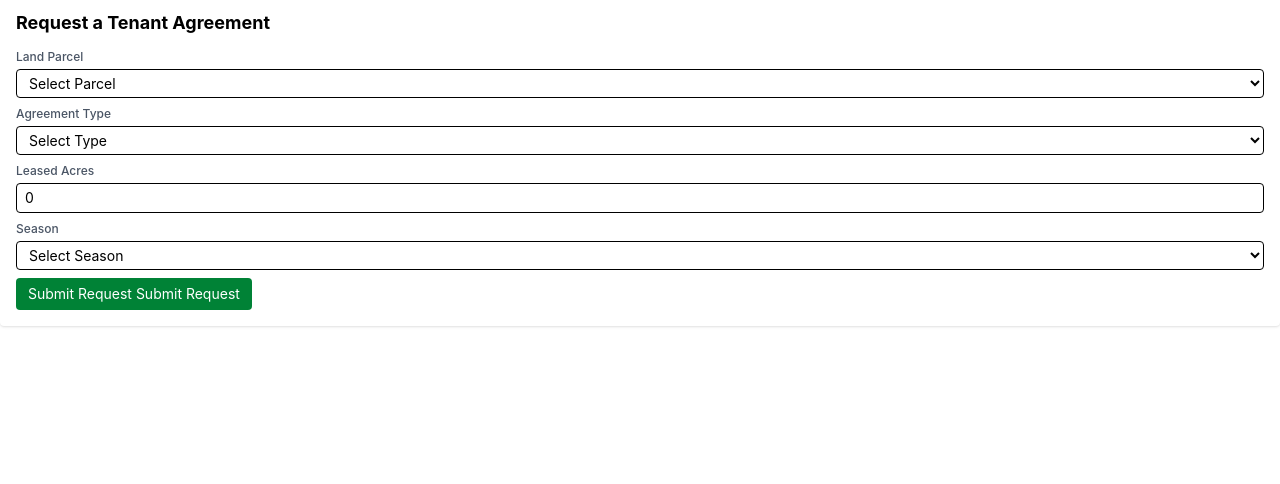
Test: RequestAgreementForm.vue › enables submit once batai shares sum to exactly 100
The width and height of the screenshot is (1280, 484).
Select "p1" in the 1st dropdown at (640,84), box [16,69,1264,98]
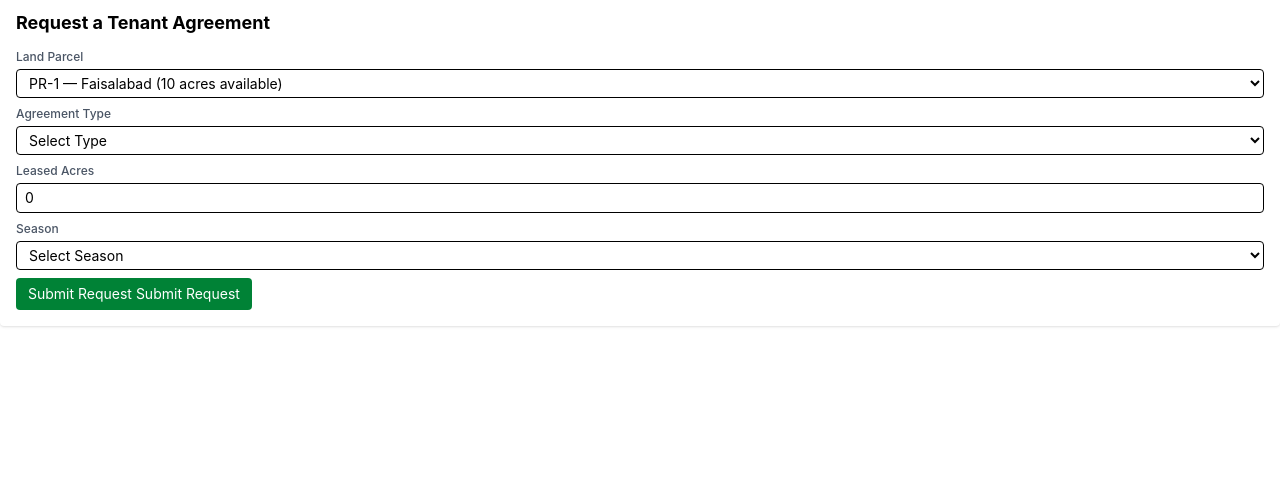
Select "Batai (Crop Share)" in the 2nd dropdown at (640,140), box [16,126,1264,155]
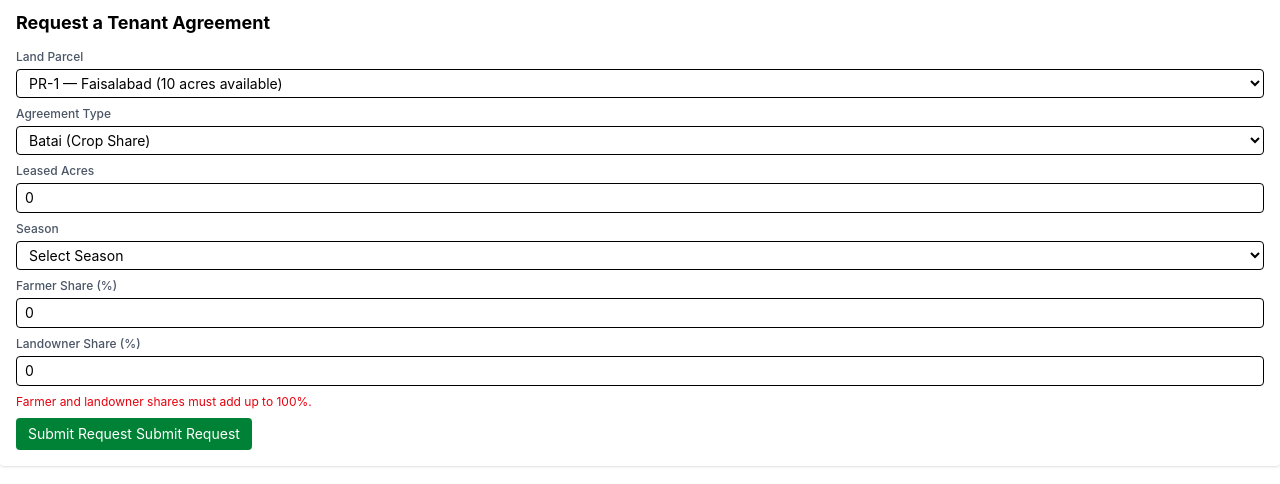
Replace the text in the 1st number field with "5" at (640,198), box [16,183,1264,213]
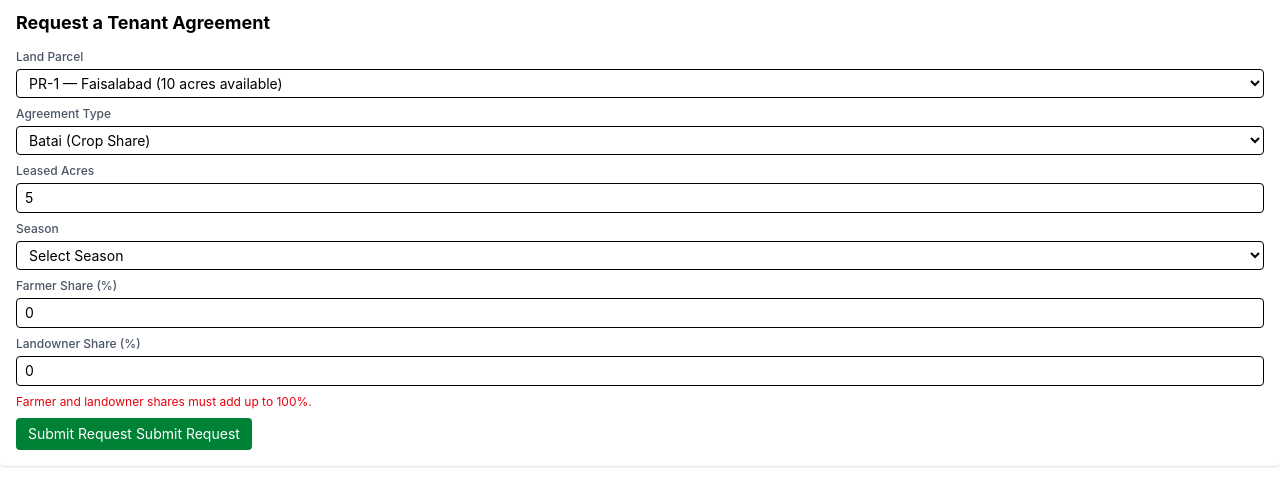
Select "Rabi" in the 3rd dropdown at (640,256), box [16,241,1264,270]
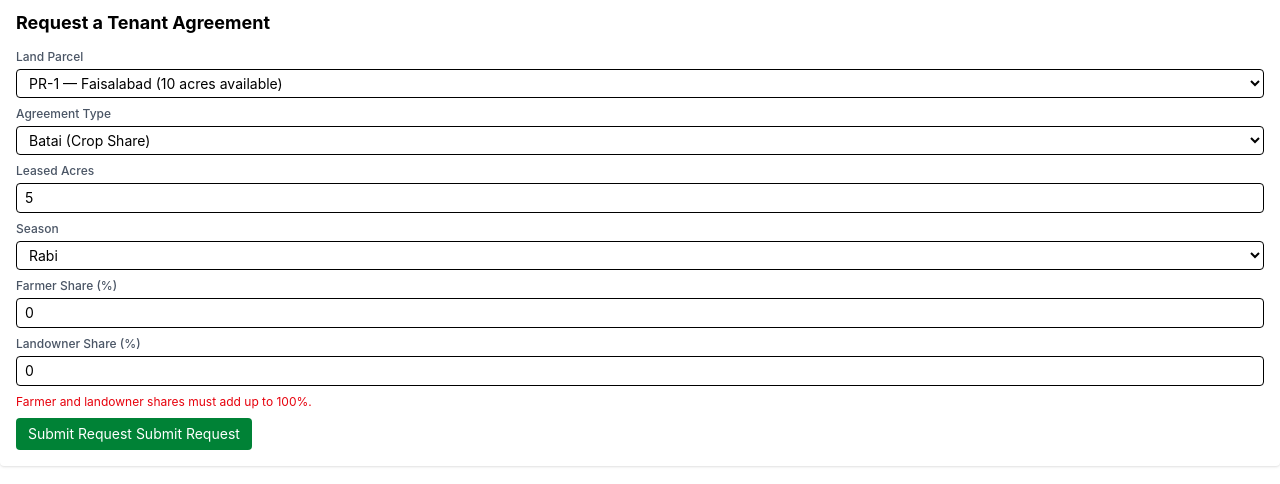
Replace the text in the 2nd number field with "60" at (640,313), box [16,298,1264,328]
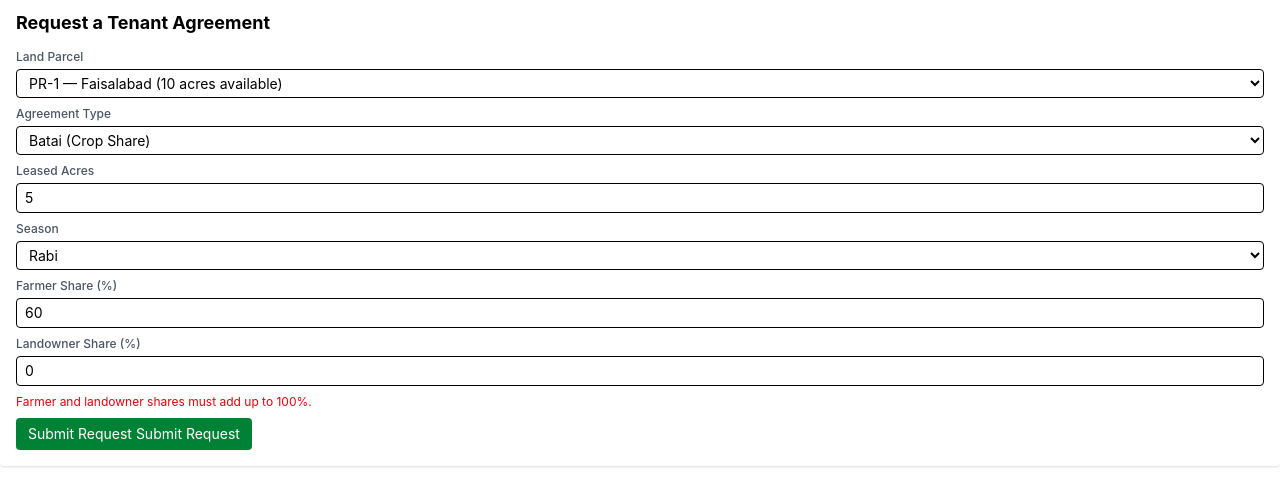
Replace the text in the 3rd number field with "40" at (640,371), box [16,356,1264,386]
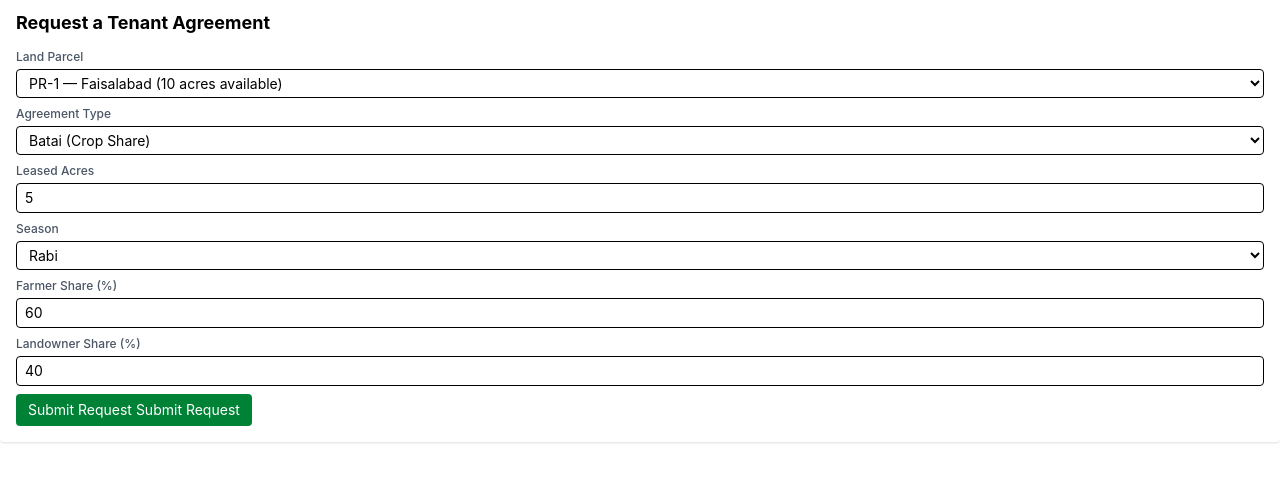
expect the button "Submit Request Submit Request" is enabled: met, box [16,394,252,426]
